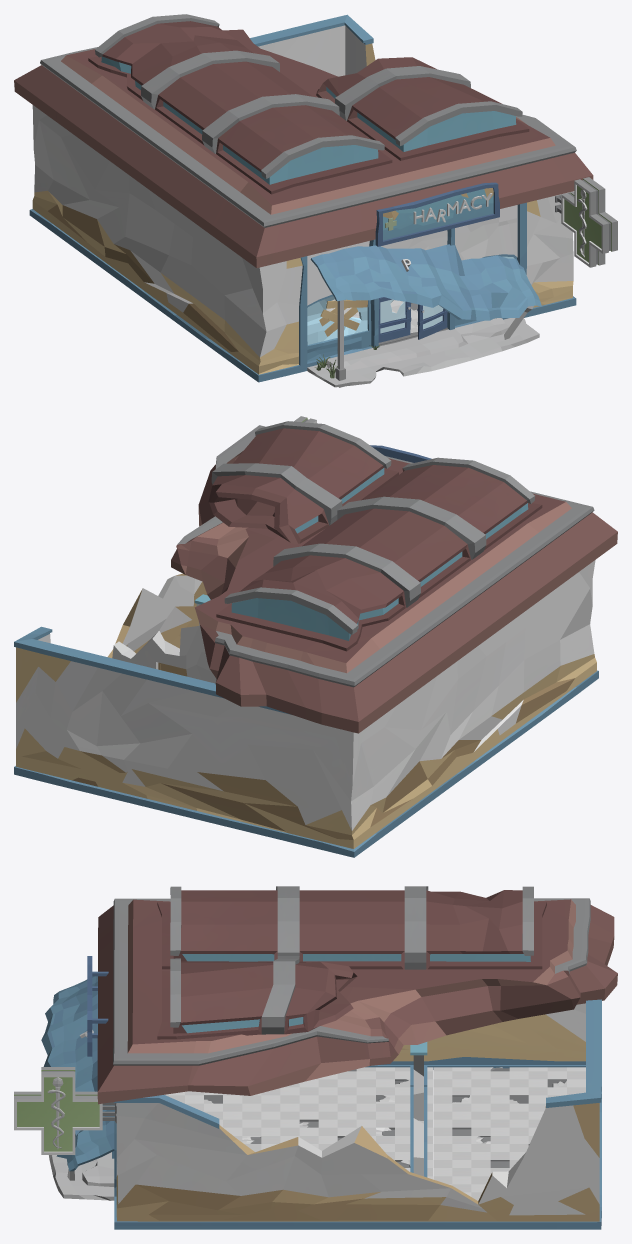
Rendered from pharmacy_building.glb.
3 renders of one model, top to bottom at view 1: azimuth 30°, elevation 25°; view 2: azimuth 150°, elevation 25°; view 3: azimuth 270°, elevation 25°, orthographic. The views are drawn at different scales.
Visible parts, largest first — view 1: main_building_walls, roof, skylight, small_roof, sign, logo, window_glass, main_door_left, boards_1, main_door_right, pharmacy_sign; view 2: main_building_walls, skylight, roof, wall_inside; view 3: main_building_walls, roof, skylight, floor_tiles, small_roof, logo, wall_inside, sign.
Part boxes in pixels (bbox=[...]): main_building_walls: bbox=[29, 14, 576, 387]; roof: bbox=[14, 29, 593, 267]; skylight: bbox=[88, 14, 529, 194]; small_roof: bbox=[310, 244, 541, 387]; sign: bbox=[375, 182, 499, 246]; logo: bbox=[555, 177, 617, 267]; window_glass: bbox=[307, 256, 514, 344]; main_door_left: bbox=[378, 297, 411, 342]; boards_1: bbox=[319, 299, 367, 336]; main_door_right: bbox=[417, 304, 447, 339]; pharmacy_sign: bbox=[401, 193, 492, 271]; main_building_walls: bbox=[14, 560, 598, 857]; skylight: bbox=[208, 421, 542, 651]; roof: bbox=[171, 425, 617, 733]; wall_inside: bbox=[112, 594, 216, 683]; main_building_walls: bbox=[49, 999, 601, 1229]; roof: bbox=[97, 898, 617, 1104]; skylight: bbox=[157, 886, 546, 1039]; floor_tiles: bbox=[164, 1067, 585, 1200]; small_roof: bbox=[41, 976, 114, 1180]; logo: bbox=[14, 1067, 116, 1154]; wall_inside: bbox=[410, 1042, 427, 1177]; sign: bbox=[87, 956, 108, 1056].
Size of the model in its own units: 9.55 by 5.53 by 13.9.
Materials: 1 (1 with a texture image).
